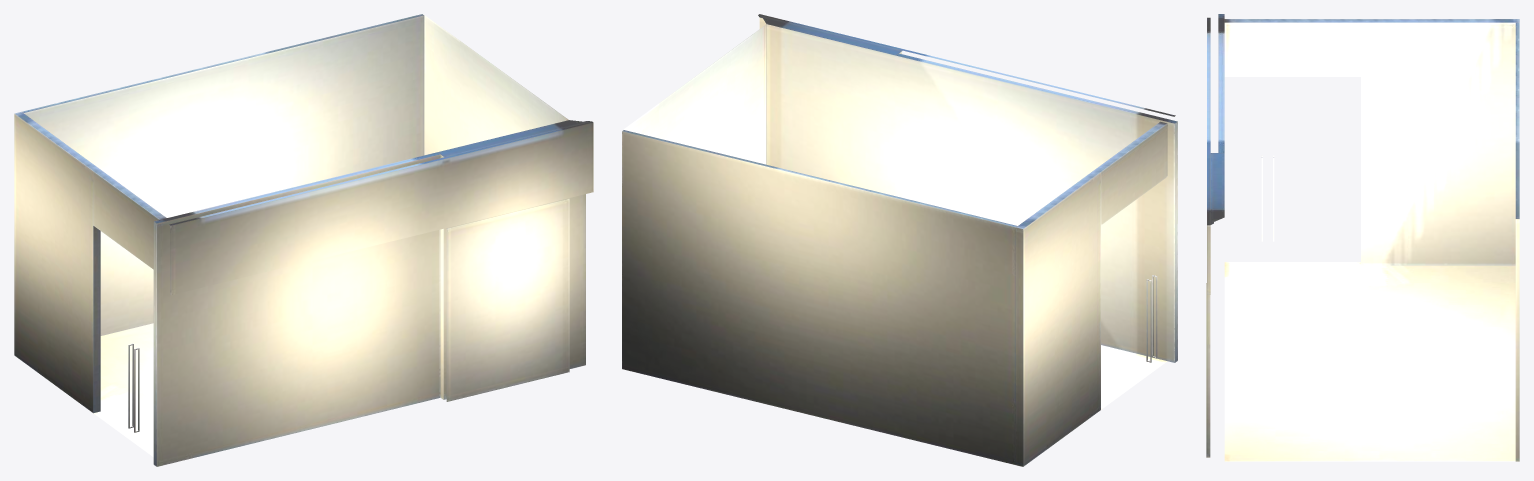
The picture shows the model from 3 angles, left to right: view 1: azimuth 30°, elevation 25°; view 2: azimuth 150°, elevation 25°; view 3: azimuth 270°, elevation 25°; orthographic projection. The views are drawn at different scales.
Parts seen in each view (by area): view 1: hc_1floor_room026_1; view 2: hc_1floor_room026_1; view 3: hc_1floor_room026_1.
Boxes of the visible parts, box(x1,y1,x2,y2) form: hc_1floor_room026_1: box(14, 14, 593, 466); hc_1floor_room026_1: box(622, 14, 1177, 466); hc_1floor_room026_1: box(1206, 14, 1519, 461).
Size of the model in its own units: 0.975 by 0.525 by 0.61.
1 material, 1 textured.
